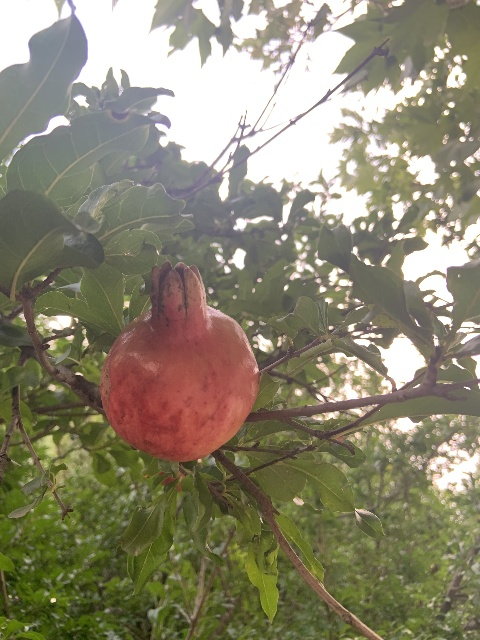ripe: (99, 260, 260, 462)
